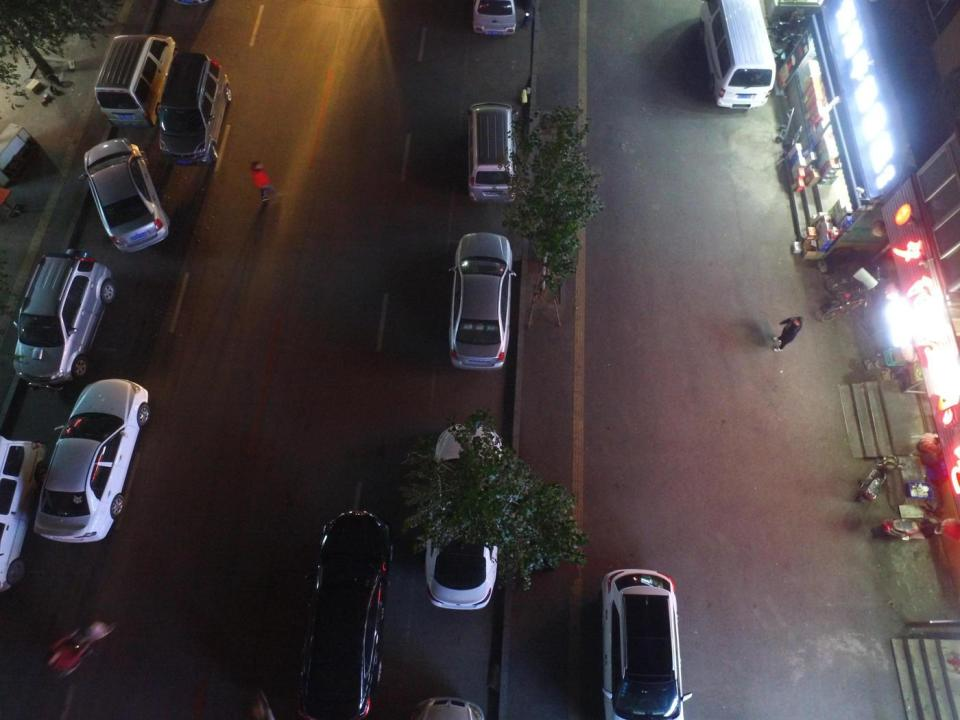car: (294, 508, 394, 720), (32, 377, 150, 545), (422, 420, 506, 612), (598, 566, 693, 720), (82, 137, 171, 255), (447, 230, 517, 374), (406, 694, 485, 720), (471, 1, 517, 38)
van: (12, 246, 118, 393), (159, 50, 233, 168), (699, 0, 777, 111), (93, 33, 181, 130), (1, 434, 50, 595), (466, 100, 519, 207)
